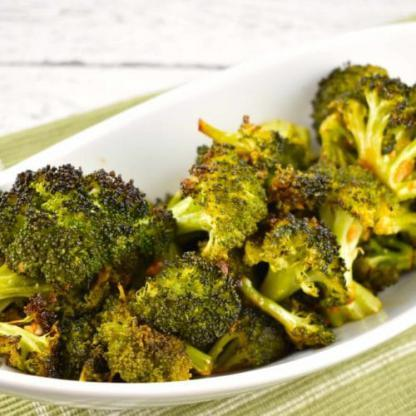broccoli: (0, 58, 415, 386)
